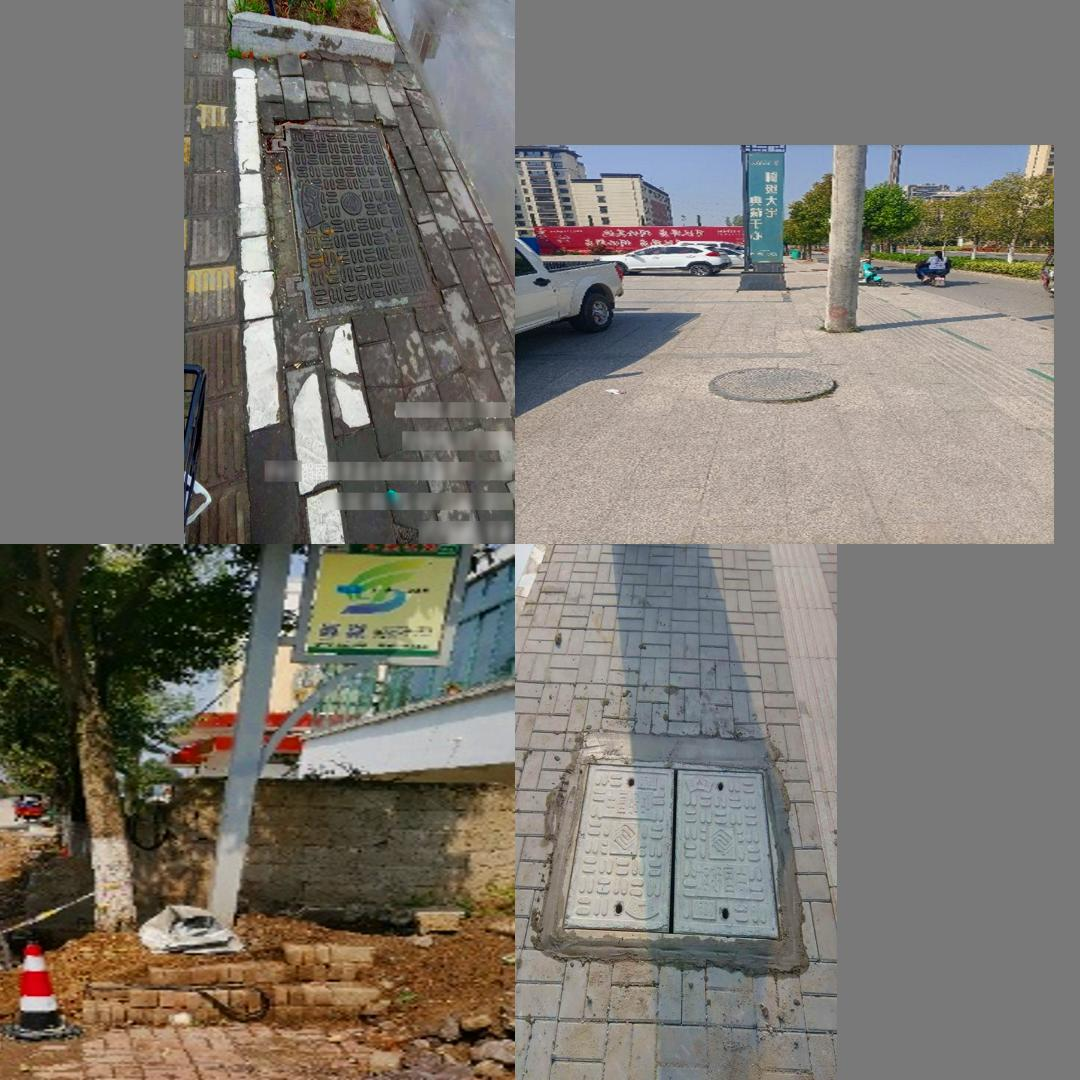good: (556, 760, 786, 941), (267, 121, 442, 324), (710, 366, 835, 403)
